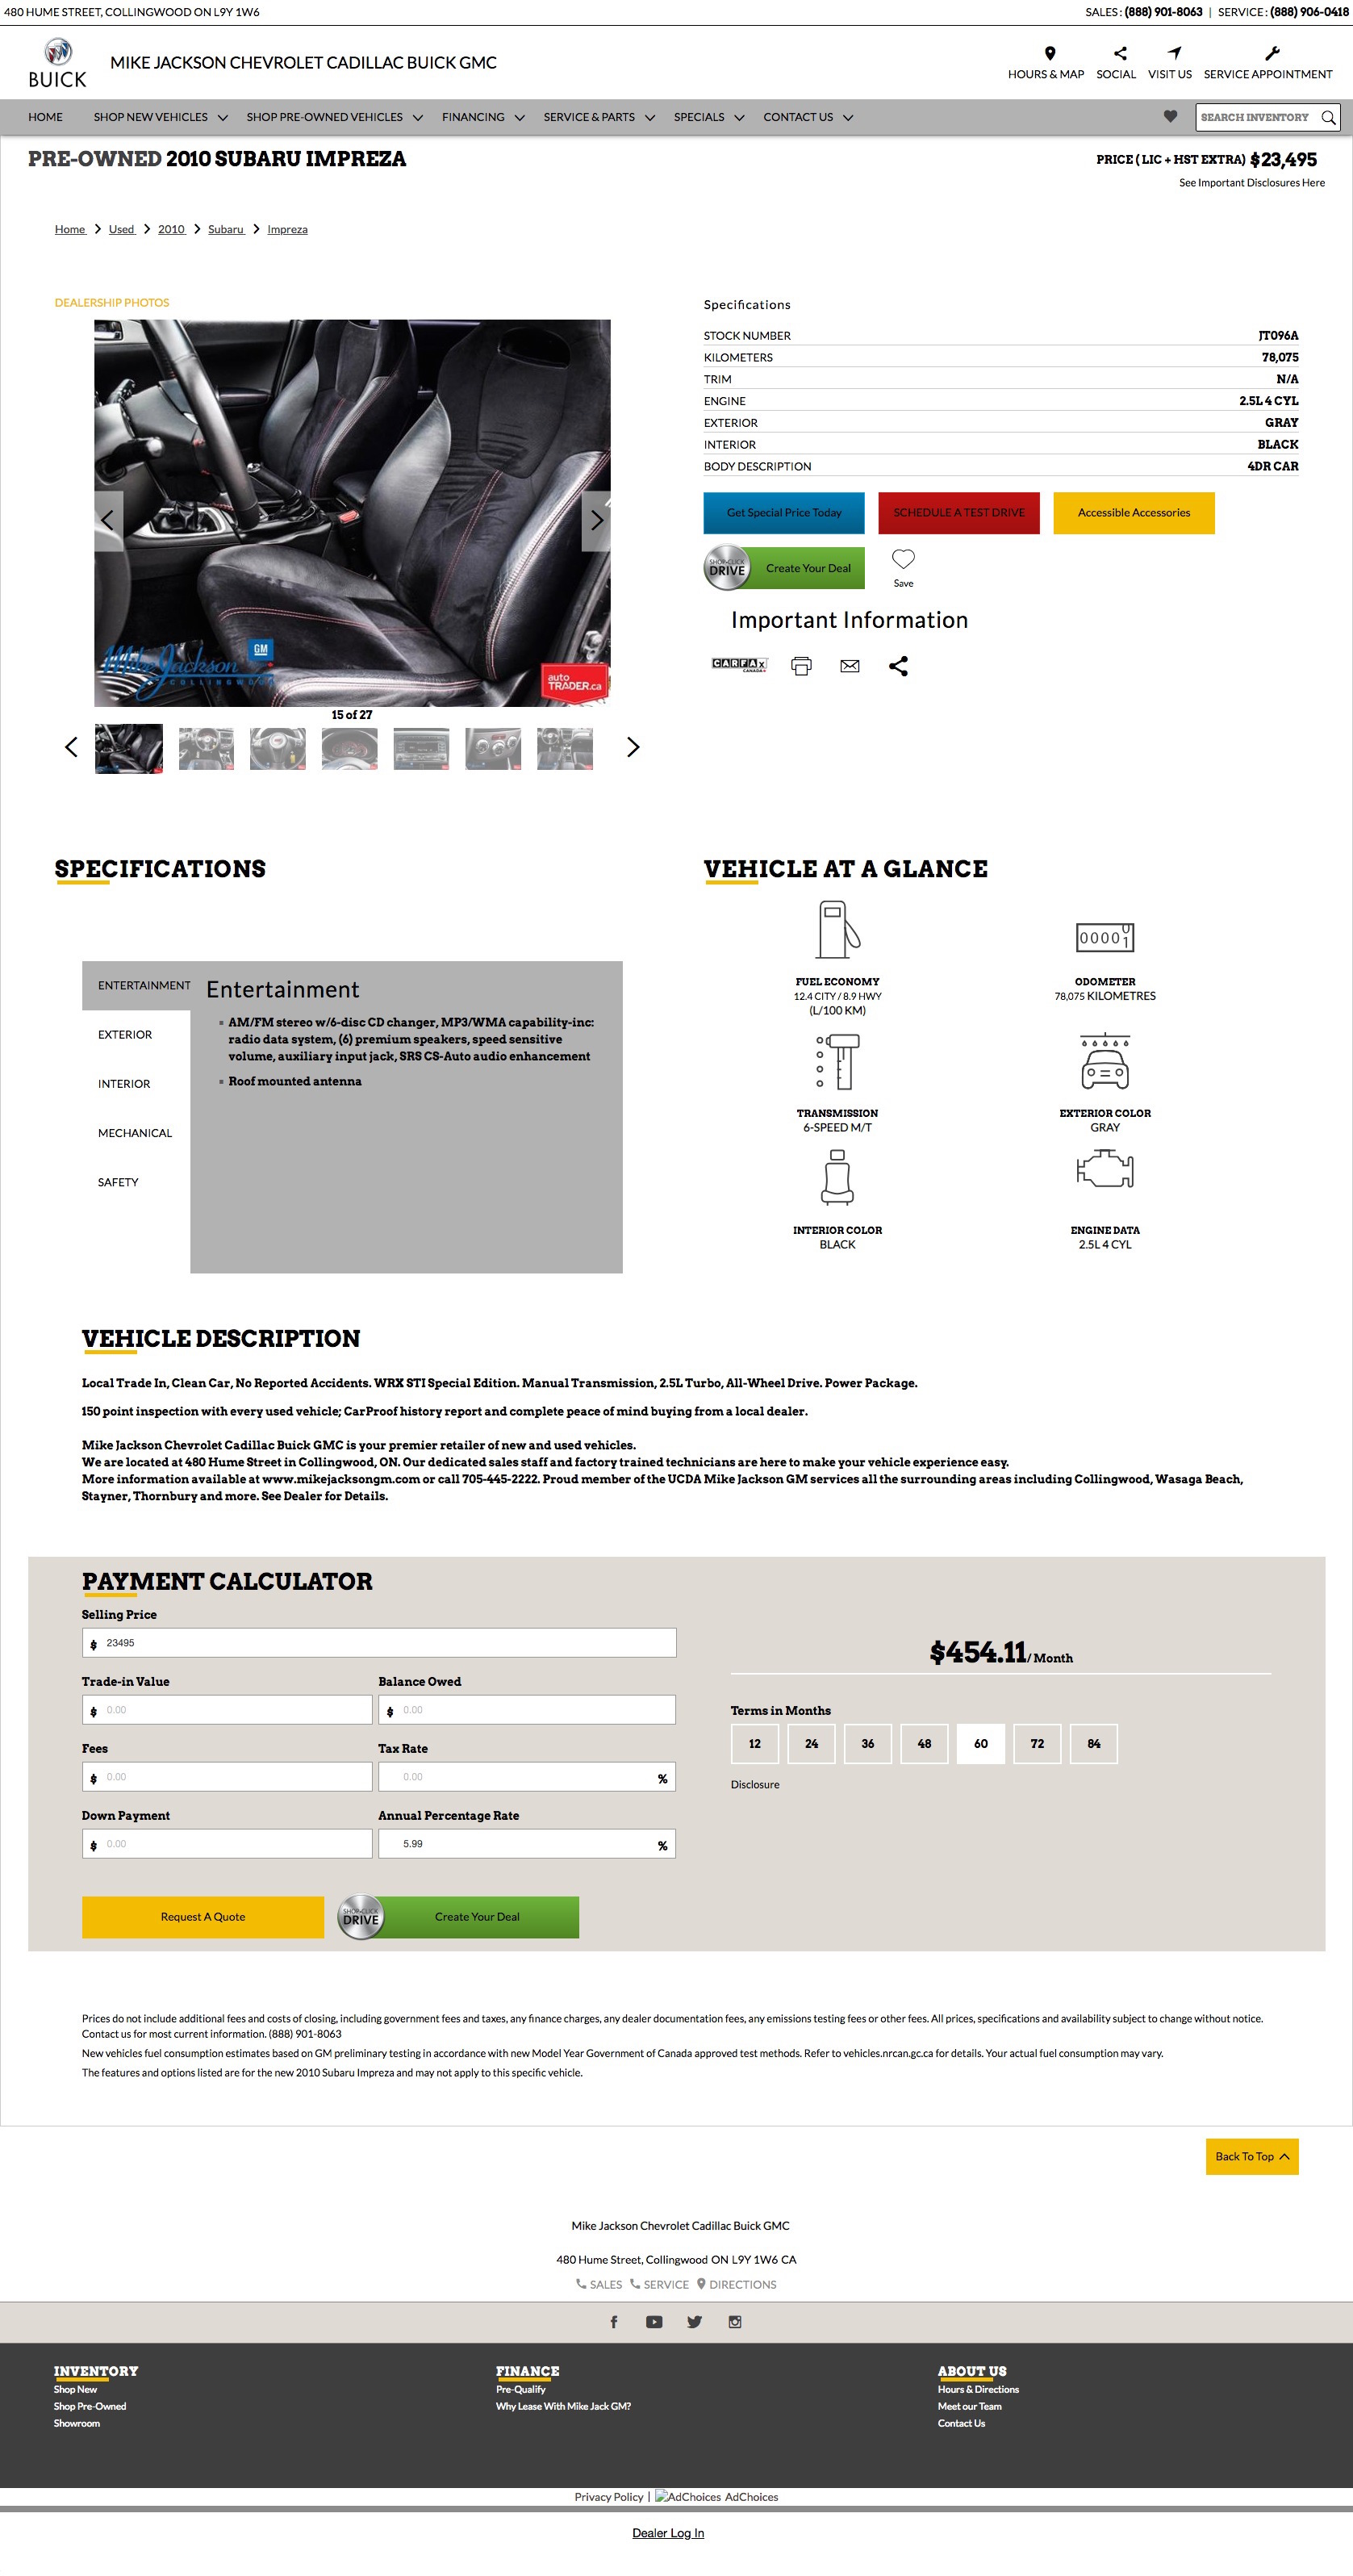car: (625, 738, 641, 758)
